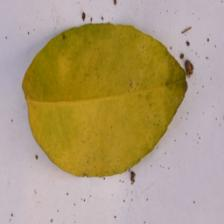greening: (19, 54, 113, 176)
